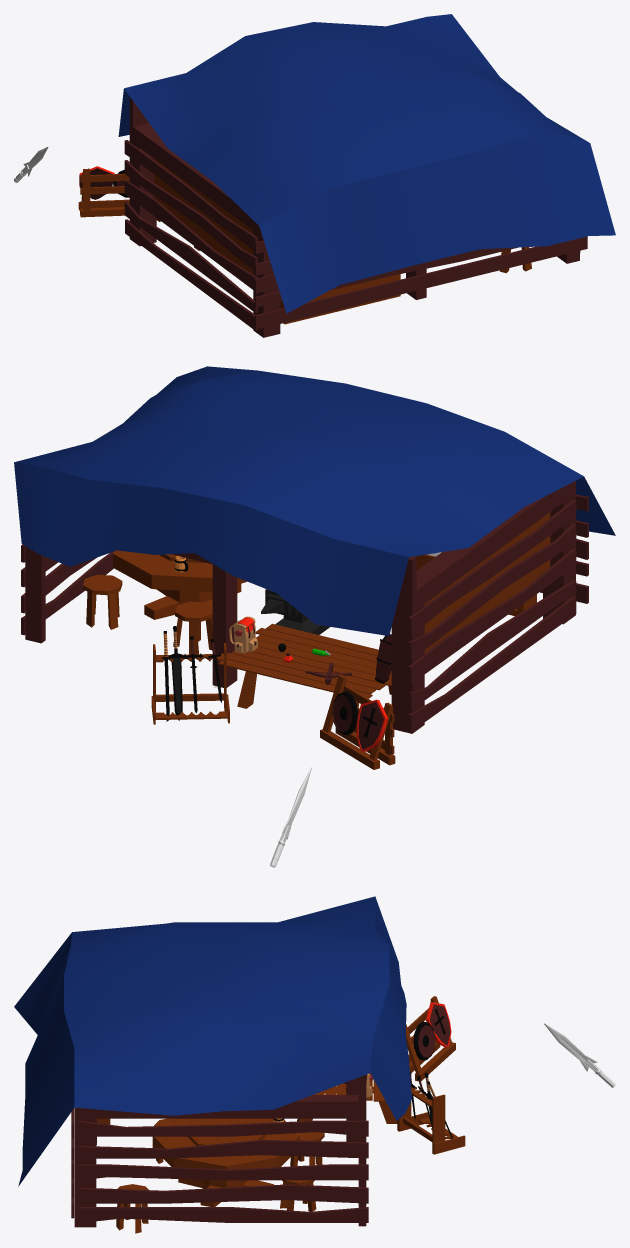
The model's file is stall weapon.fbx.
3 views of the same model, one above another, from view 1: azimuth 30°, elevation 25°; view 2: azimuth 150°, elevation 25°; view 3: azimuth 270°, elevation 25° (orthographic). The views are drawn at different scales.
Parts seen in each view (by area): view 1: Plane_2, Cube_7, Cube_1_2, Cube_10_2, Cube_8, Cube_11_2, Cube_12_3, Cube_9_2, Cube_9, Cube_6_3, Cube_28; view 2: Plane_2, Cube_1_2, Cylinder_19, Cube_10_2, Cube_8, Cube_11_2, Cube_12_3, Cube_9_2, Cube_9, Cube, Cube_2, Cylinder_21 (+17 smaller); view 3: Plane_2, Cube_2, Cube_14_2, Cylinder_19, Cube_13_4, Cube_16_2, Cube_15, Cube_17_2, Cube_1, Cylinder_14, Cube_14, Cube_3 (+3 smaller).
Boxes of the visible parts, x1,y1,x2,y2 form: Plane_2: [118, 14, 615, 313]; Cube_7: [254, 236, 587, 329]; Cube_1_2: [129, 97, 426, 337]; Cube_10_2: [124, 180, 257, 290]; Cube_8: [124, 140, 257, 250]; Cube_11_2: [124, 201, 257, 312]; Cube_12_3: [125, 219, 257, 330]; Cube_9_2: [124, 160, 257, 270]; Cube_9: [154, 158, 253, 273]; Cube_6_3: [254, 247, 518, 307]; Cube_28: [280, 274, 400, 324]; Plane_2: [14, 366, 615, 635]; Cube_1_2: [391, 481, 575, 733]; Cylinder_19: [113, 550, 246, 619]; Cube_10_2: [408, 548, 576, 683]; Cube_8: [408, 499, 576, 634]; Cube_11_2: [408, 580, 576, 709]; Cube_12_3: [408, 596, 576, 731]; Cube_9_2: [408, 524, 576, 659]; Cube_9: [424, 512, 550, 653]; Cube: [172, 553, 237, 687]; Cube_2: [25, 546, 45, 643]; Cylinder_21: [83, 574, 122, 629]; Plane_2: [14, 896, 411, 1186]; Cube_2: [74, 1074, 367, 1227]; Cube_14_2: [79, 1184, 368, 1203]; Cylinder_19: [152, 1118, 299, 1206]; Cube_13_4: [79, 1207, 368, 1222]; Cube_16_2: [79, 1139, 368, 1158]; Cube_15: [79, 1164, 368, 1180]; Cube_17_2: [79, 1120, 368, 1136]; Cube_1: [426, 1002, 451, 1046]; Cylinder_14: [413, 1021, 435, 1060]; Cube_14: [432, 1094, 445, 1153]; Cube_3: [544, 1023, 597, 1071].
Bounding box in the file's own units: 1197 × 665 × 1657.
